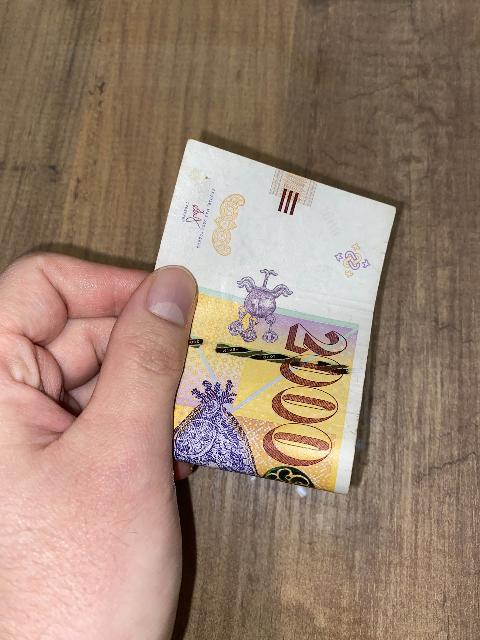2000_note: (157, 141, 394, 492)
